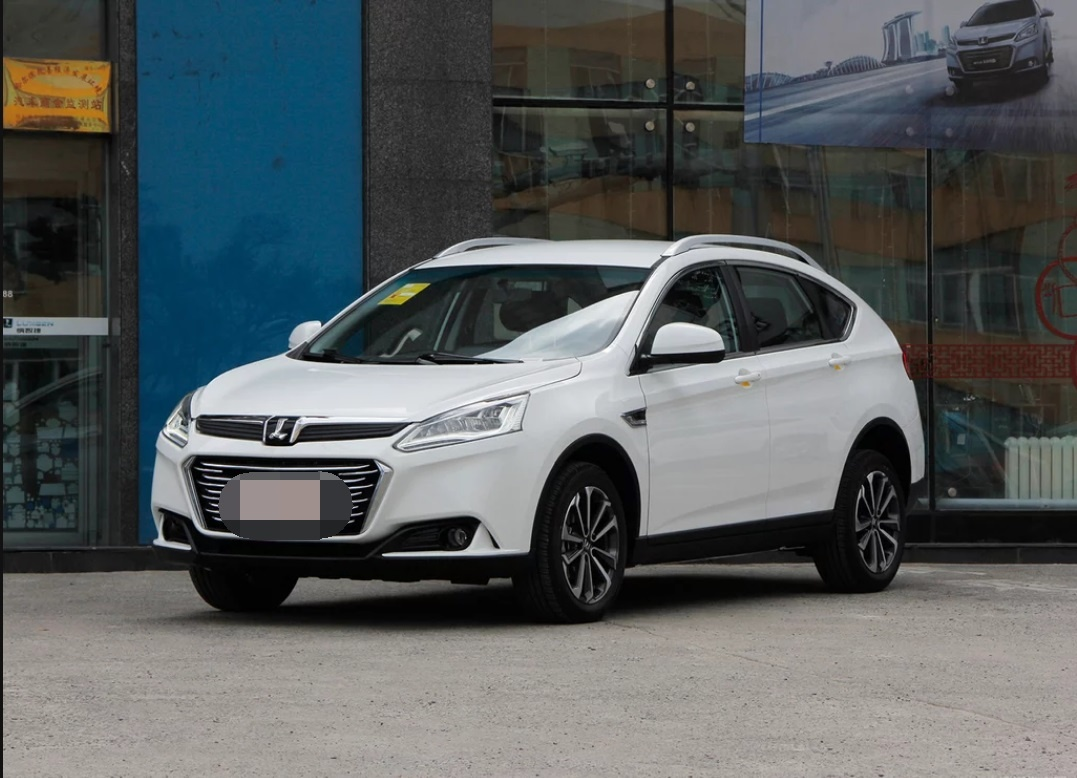SUV: (168, 192, 947, 657)
